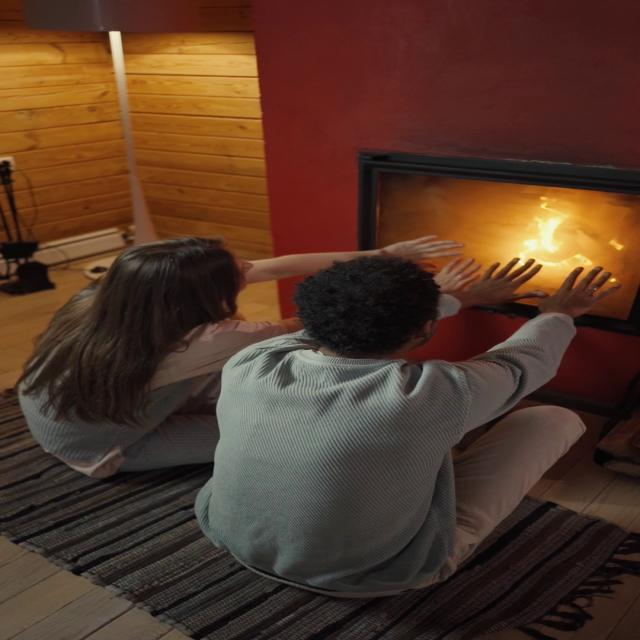Fire: (474, 190, 604, 270)
